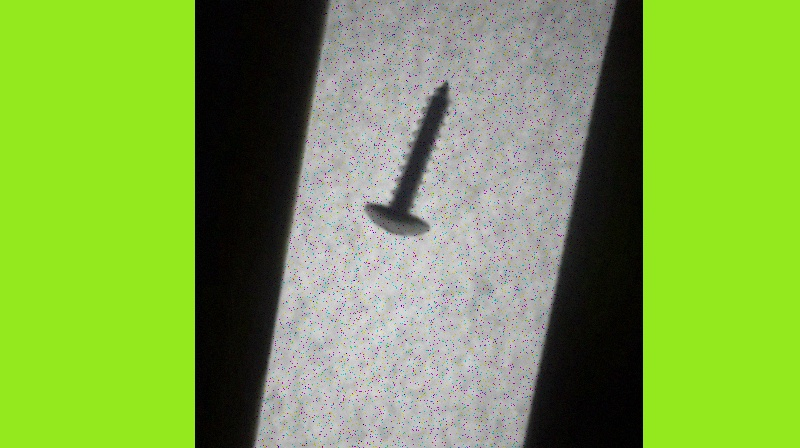S003: (360, 74, 457, 239)
